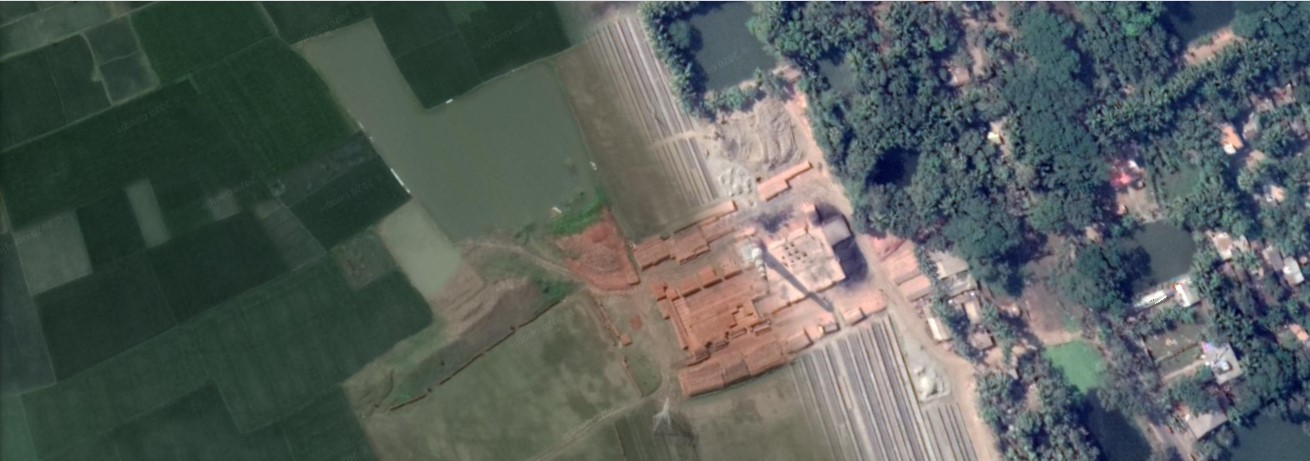kiln: (654, 239, 868, 330)
